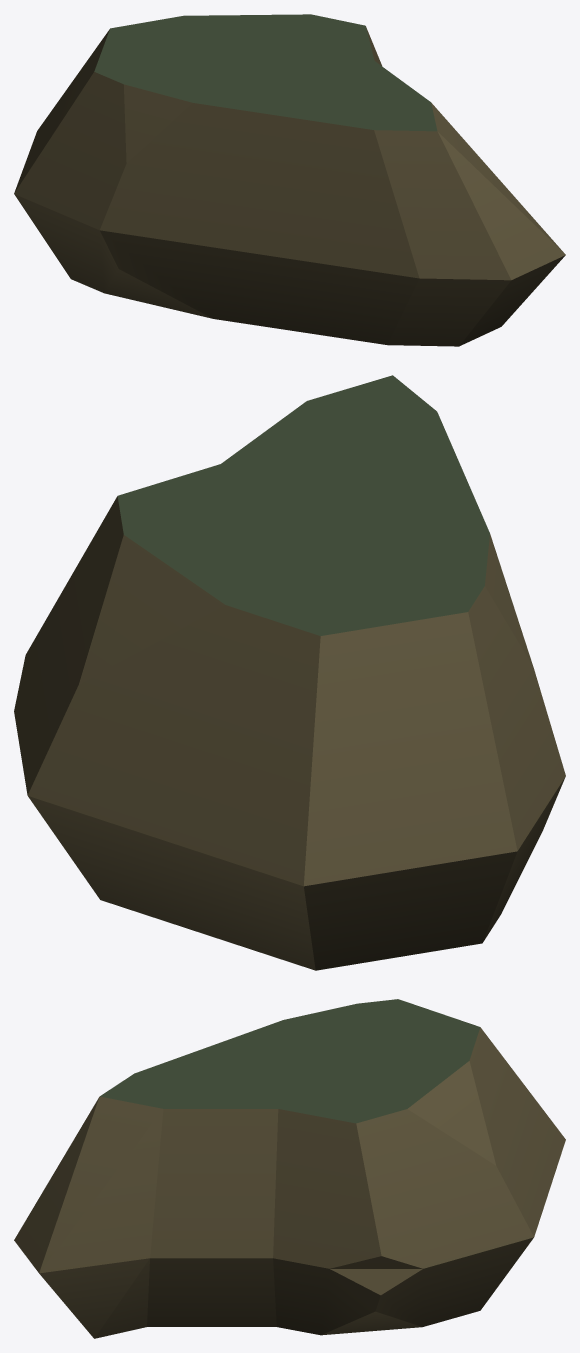
Rendered from findling_gross.glb.
3 renders of one model, top to bottom at view 1: azimuth 30°, elevation 25°; view 2: azimuth 150°, elevation 25°; view 3: azimuth 270°, elevation 25°, orthographic. The views are drawn at different scales.
Visible parts, largest first — view 1: findling_gross; view 2: findling_gross; view 3: findling_gross.
Boxes of the visible parts, left/top/right/bottom form: findling_gross: left=14, top=14, right=565, bottom=346; findling_gross: left=14, top=375, right=565, bottom=970; findling_gross: left=14, top=999, right=565, bottom=1338.
Size of the model in its own units: 5.35 by 3 by 7.08.
